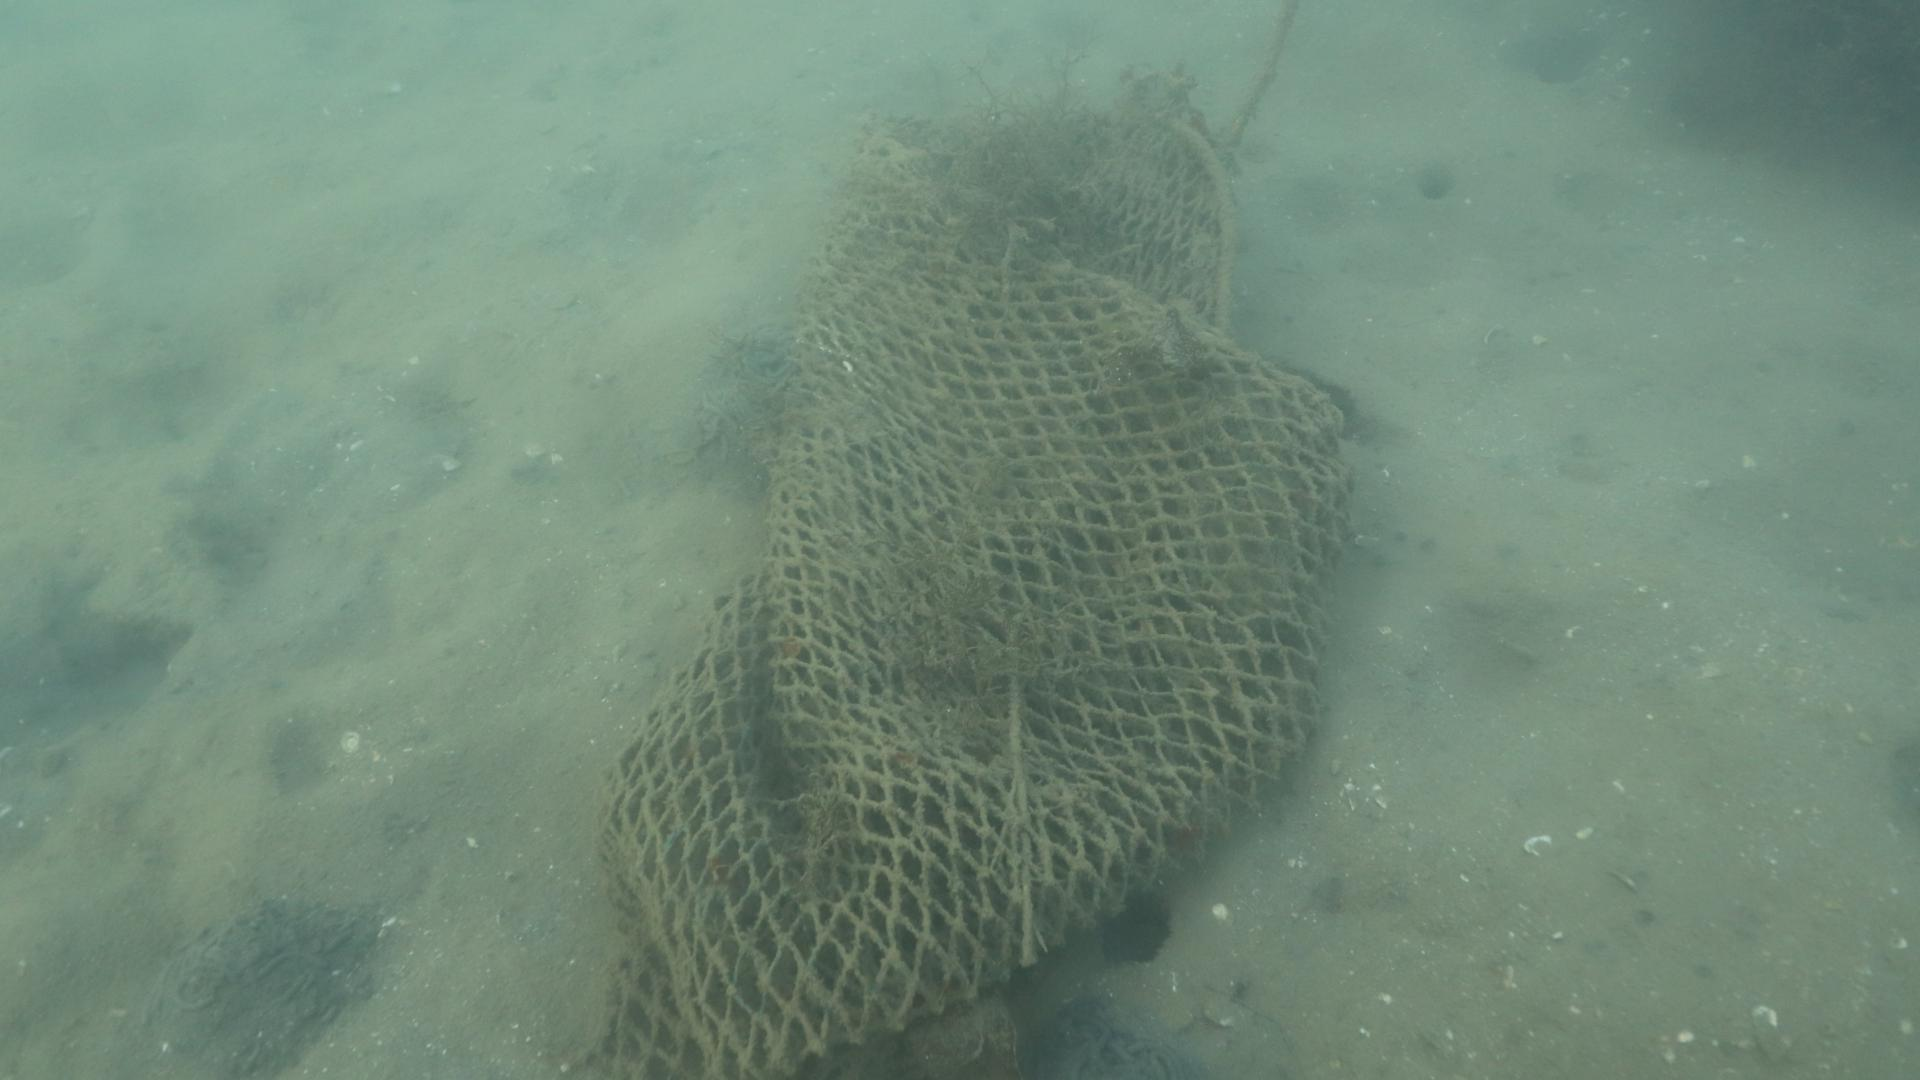fish net: (591, 119, 1352, 1080)
